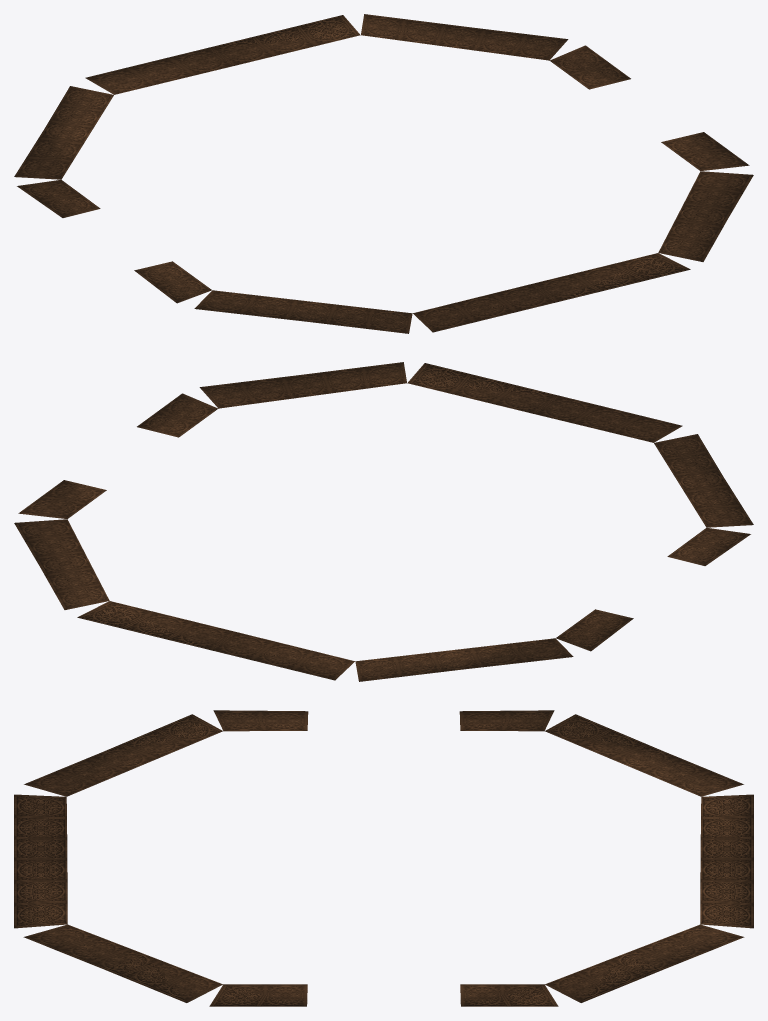
File: test-floor_tiles.glb
3 renders of one model, top to bottom at view 1: azimuth 30°, elevation 25°; view 2: azimuth 150°, elevation 25°; view 3: azimuth 270°, elevation 25°, orthographic. The views are drawn at different scales.
Parts seen in each view (by area): view 1: floor_ornate; view 2: floor_ornate; view 3: floor_ornate.
Boxes of the visible parts, x1,y1,x2,y2 form: floor_ornate: [14, 14, 753, 333]; floor_ornate: [14, 362, 753, 681]; floor_ornate: [14, 710, 753, 1006].
Bounding box in the file's own units: 128 × 5.96e-08 × 135.
Materials: 1 (1 with a texture image).
